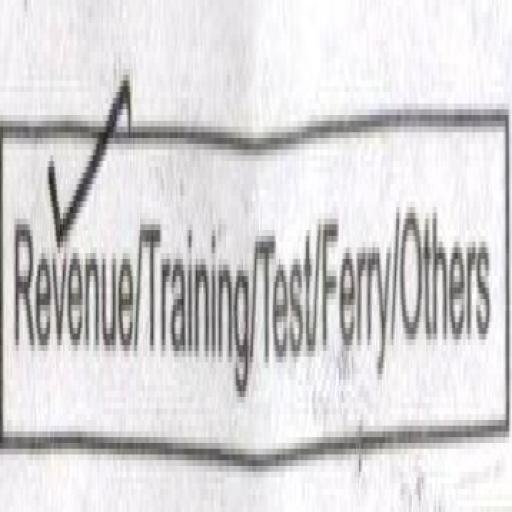check: (0, 51, 134, 437)
